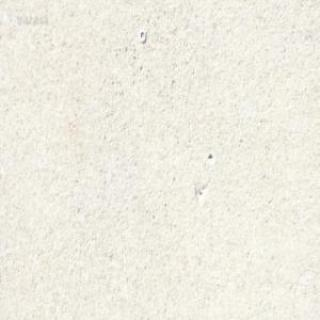Washertrack_idkeyframe: (138, 27, 146, 41)
